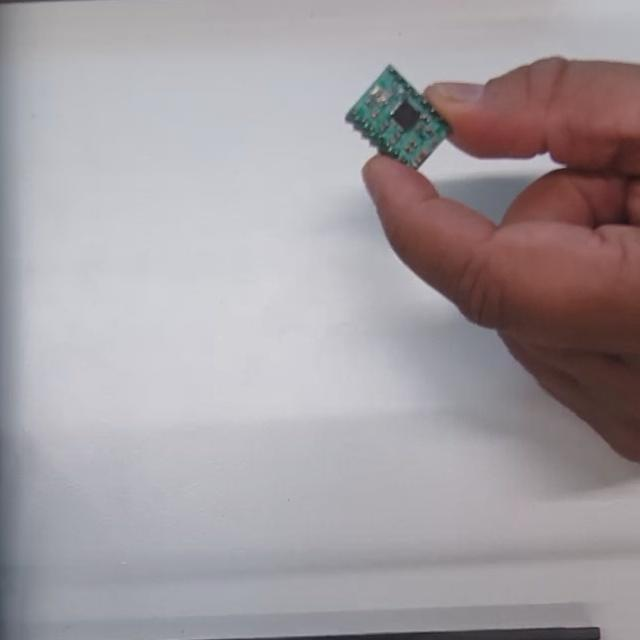Chip: (340, 64, 453, 168)
